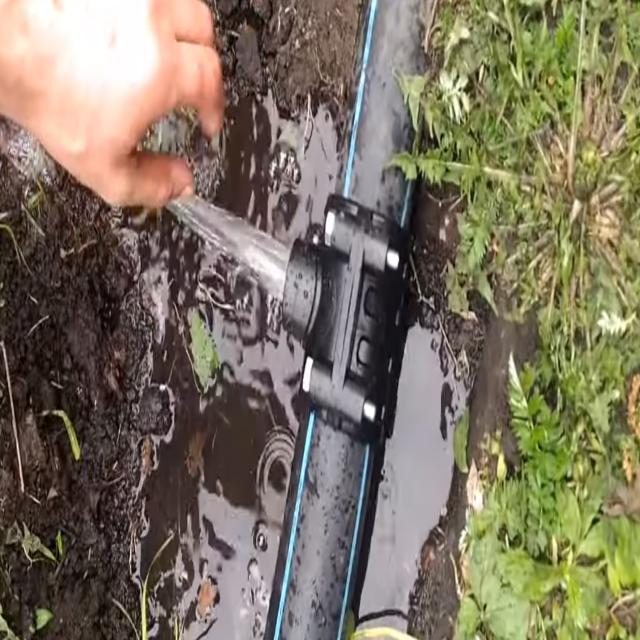leak: (168, 194, 290, 301)
